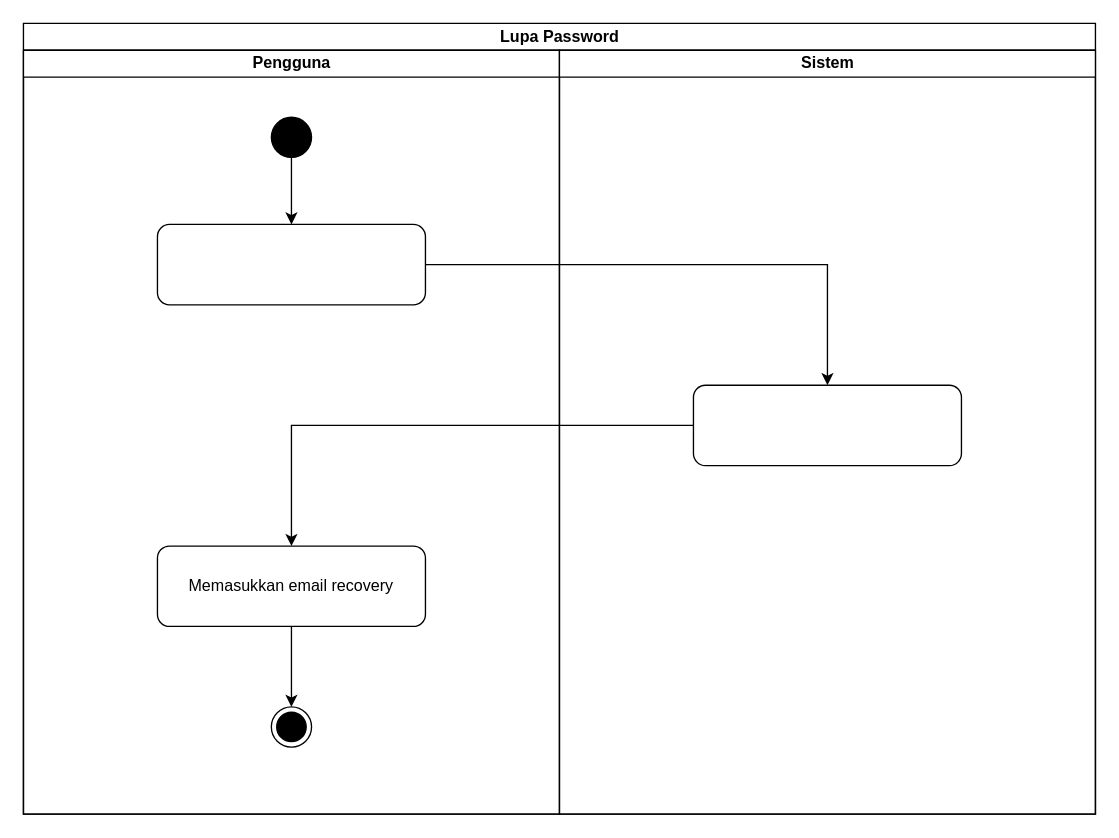
Some shapes in this 1119 by 838 pixel diagram are drawn without their labels. Here are the shapes that lost their labels. From the top down, the centre of each, then its label:
At point (290, 264): "Klik lupa password".
At point (826, 425): "Mengirim link reset password ke email pengguna".
